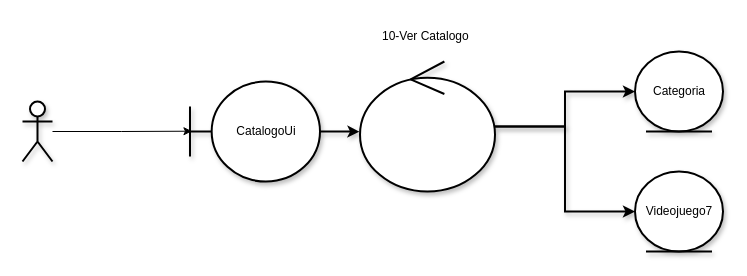
The diagram is 747 pixels wide and 276 high, and some of its shapes have lost their labels. The centre of each missing label's shape, as x and y in pixels:
"CatalogoAction" goes at pixel 428 127.
"Usuario" goes at pixel 38 132.
